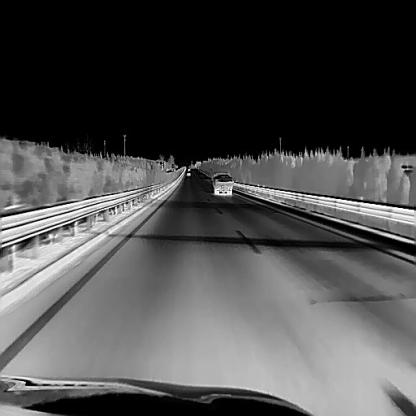car: (186, 168, 190, 176)
truck: (210, 171, 233, 194)
